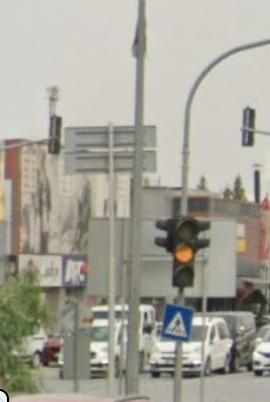yellowlight: (172, 219, 197, 291)
